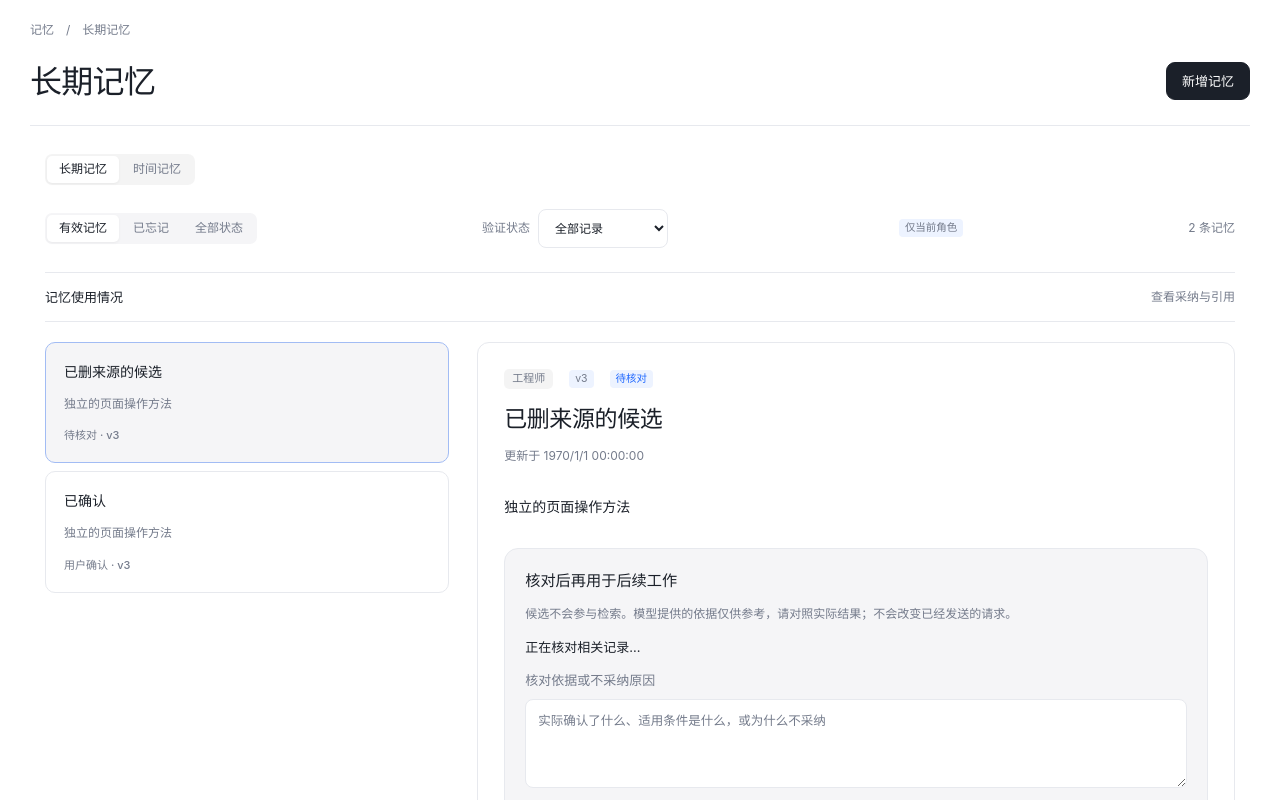
Test case: 页面可筛选待核对记录，来源删除时显示标识且不开放来源按钮
Select "待核对" in the dropdown named "验证状态筛选" at (603, 228), box [538,209,668,248]
(page scrolled)
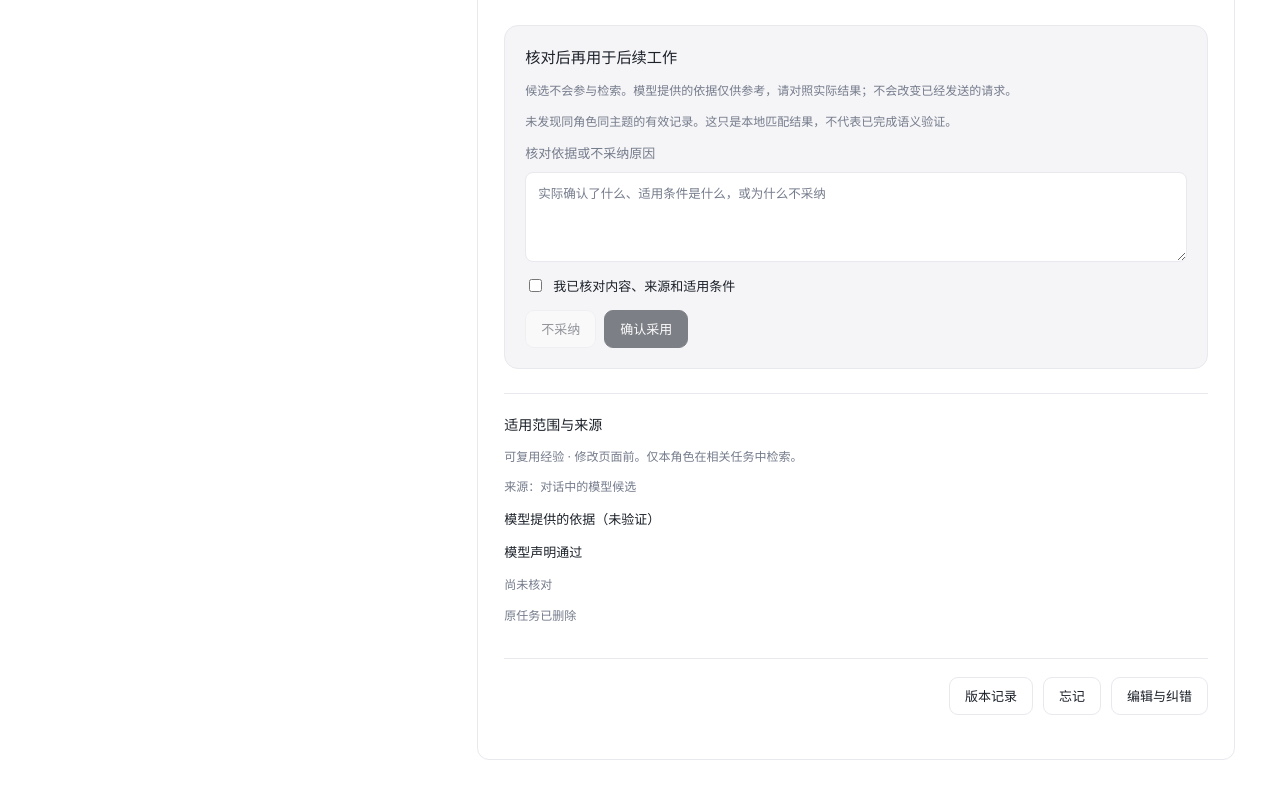
Expected: the text "原任务已删除" is shown, [504,608,576,623]
Now the button "已确认" is gone
